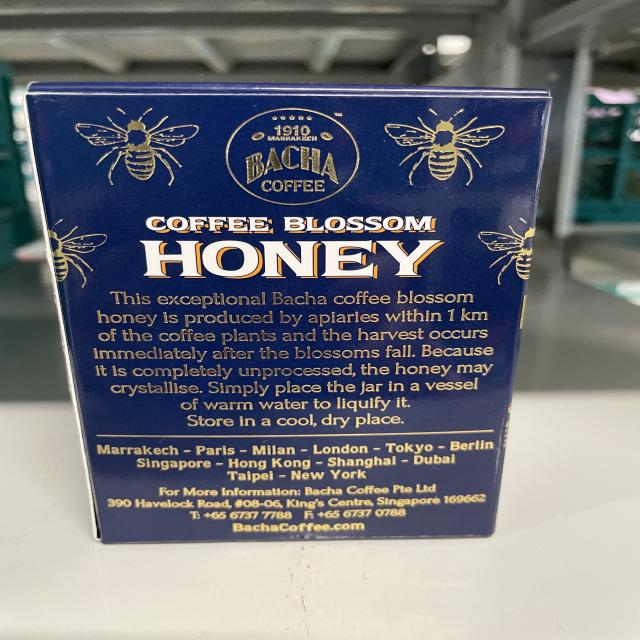object_name: (30, 87, 537, 536)
